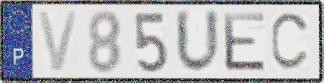5: (133, 9, 171, 74)
8: (85, 8, 125, 75)
C: (269, 11, 313, 74)
E: (221, 11, 269, 74)
U: (173, 8, 222, 77)
V: (36, 9, 81, 74)
